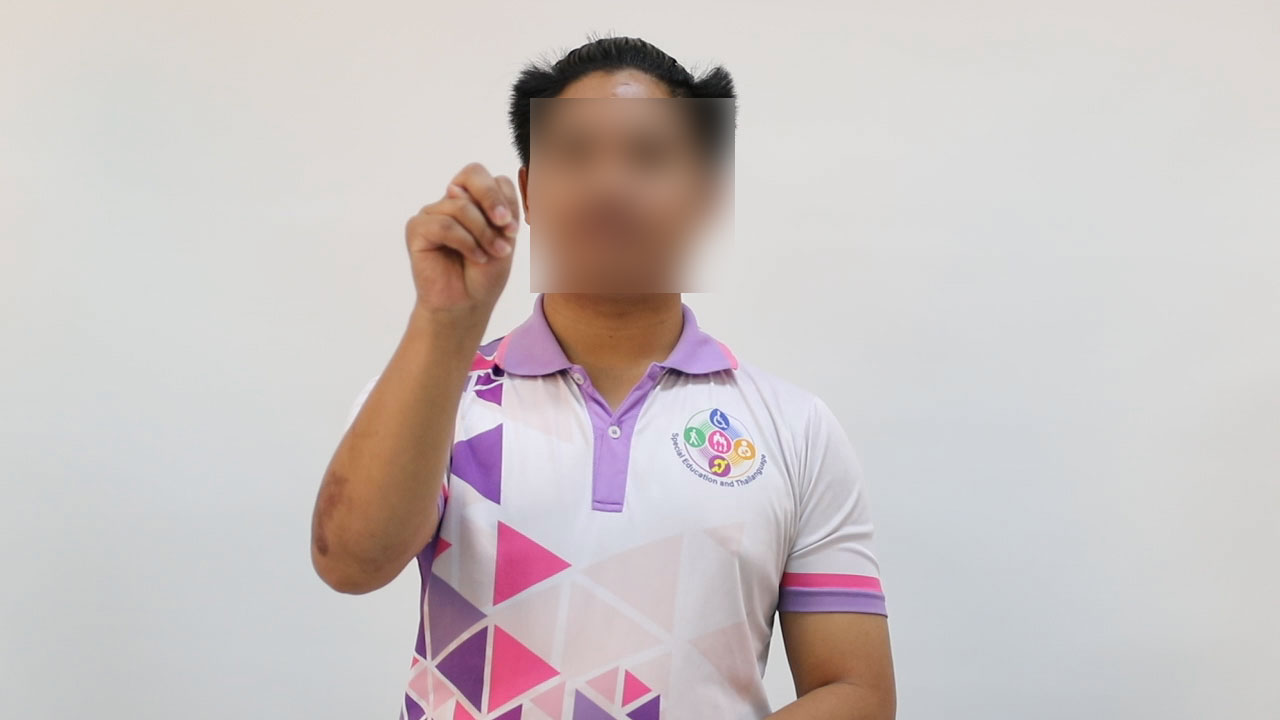nor: (391, 156, 542, 325)
